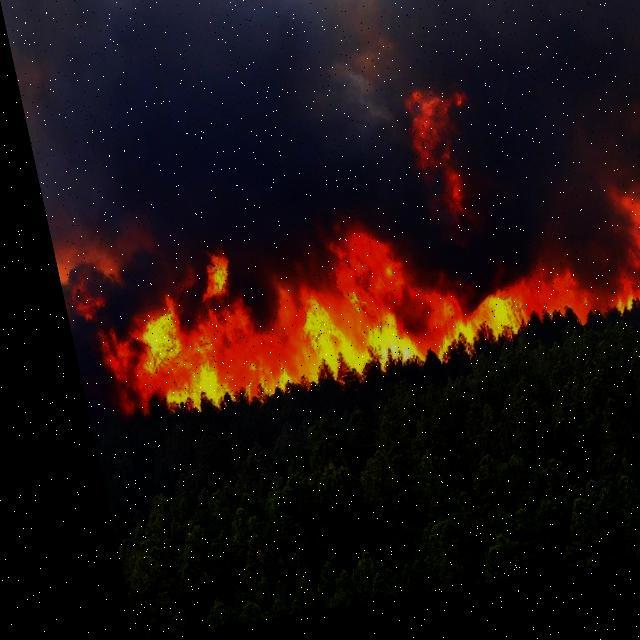Fire: (59, 194, 596, 430), (580, 184, 639, 339)
